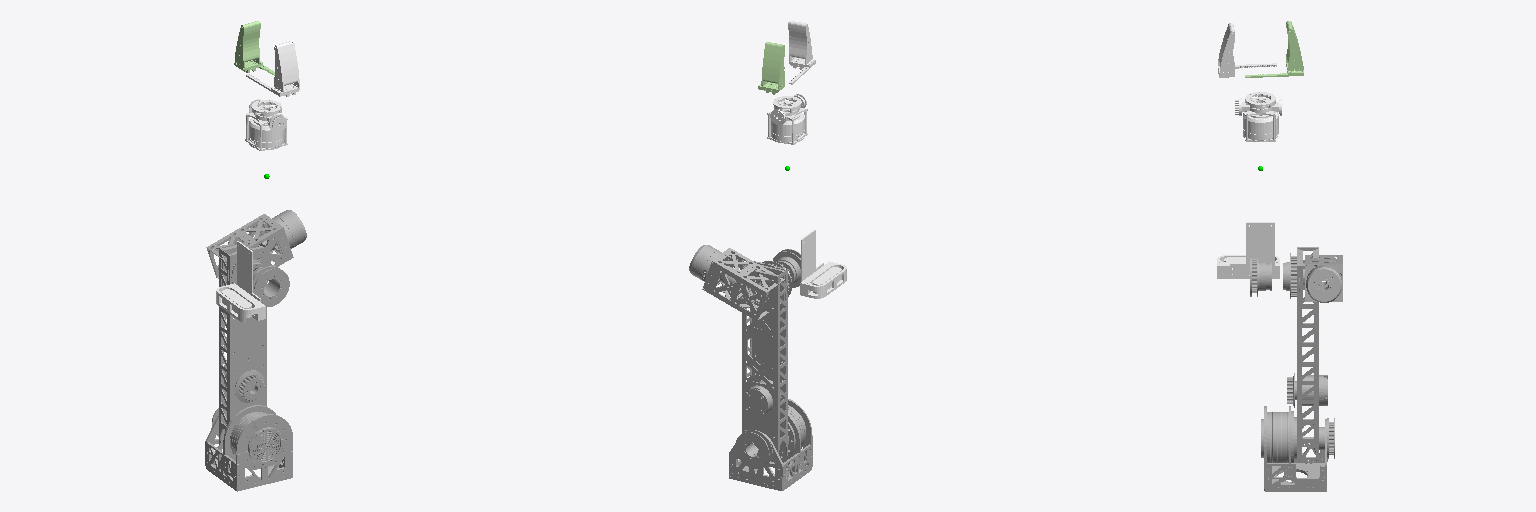
robot.urdf — engineer_v7:
<?xml version="1.0" encoding="utf-8"?>
<!-- This URDF was automatically created by SolidWorks to URDF Exporter! Originally created by Stephen Brawner (brawner@gmail.com) 
     Commit Version: 1.6.0-4-g7f85cfe  Build Version: 1.6.7995.38578
     For more information, please see http://wiki.ros.org/sw_urdf_exporter -->
<robot
  name="engineer_v7">
  <link
    name="base_link">
    <visual>
      <origin
        xyz="0 0 0"
        rpy="0 0 0" />
      <geometry>
        <mesh
          filename="package://engineer_description/meshes/base_link.STL" />
      </geometry>
      <material
        name="">
        <color
          rgba="0.75294 0.75294 0.75294 1" />
      </material>
    </visual>
    <collision>
      <origin
        xyz="0 0 0"
        rpy="0 0 0" />
      <geometry>
        <mesh
          filename="package://engineer_description/meshes/base_link.STL" />
      </geometry>
    </collision>
  </link>
  <link
    name="link1">
    <inertial>
      <origin
        xyz="-0.00021481 0.0018535 0.057337"
        rpy="0 0 0" />
      <mass
        value="2.1" />
      <inertia
        ixx="0.0011115"
        ixy="4.3686E-07"
        ixz="-1.0782E-05"
        iyy="0.0016989"
        iyz="8.4001E-06"
        izz="0.0012571" />
    </inertial>
    <visual>
      <origin
        xyz="0 0 0"
        rpy="0 0 0" />
      <geometry>
        <mesh
          filename="package://engineer_description/meshes/link1.STL" />
      </geometry>
      <material
        name="">
        <color
          rgba="0.75294 0.75294 0.75294 1" />
      </material>
    </visual>
    <collision>
      <origin
        xyz="0 0 0"
        rpy="0 0 0" />
      <geometry>
        <mesh
          filename="package://engineer_description/meshes/link1.STL" />
      </geometry>
    </collision>
  </link>
  <joint
    name="joint1"
    type="revolute">
    <origin
      xyz="0.14614 -0.00014615 0.1938"
      rpy="0 0 0" />
    <parent
      link="base_link" />
    <child
      link="link1" />
    <axis
      xyz="0 0 1" />
    <limit
      lower="-3.14"
      upper="3.14"
      effort="0"
      velocity="0" />
  </joint>
  <link
    name="link2">
    <inertial>
      <origin
        xyz="-1.345E-05 0.1949 -0.025277"
        rpy="0 0 0" />
      <mass
        value="1.3" />
      <inertia
        ixx="0.0054198"
        ixy="1.8584E-08"
        ixz="-1.6807E-08"
        iyy="0.00059311"
        iyz="1.6851E-05"
        izz="0.0058167" />
    </inertial>
    <visual>
      <origin
        xyz="0 0 0"
        rpy="0 0 0" />
      <geometry>
        <mesh
          filename="package://engineer_description/meshes/link2.STL" />
      </geometry>
      <material
        name="">
        <color
          rgba="0.75294 0.75294 0.75294 1" />
      </material>
    </visual>
    <collision>
      <origin
        xyz="0 0 0"
        rpy="0 0 0" />
      <geometry>
        <mesh
          filename="package://engineer_description/meshes/link2.STL" />
      </geometry>
    </collision>
  </link>
  <joint
    name="joint2"
    type="revolute">
    <origin
      xyz="0 0 0.075"
      rpy="1.5708 0 0" />
    <parent
      link="link1" />
    <child
      link="link2" />
    <axis
      xyz="0 0 -1" />
    <limit
      lower="-1.3358"
      upper="2.0644"
      effort="0"
      velocity="0" />
  </joint>
  <link
    name="link3">
    <inertial>
      <origin
        xyz="-0.050612 1.2904E-05 -0.062034"
        rpy="0 0 0" />
      <mass
        value="0.9" />
      <inertia
        ixx="0.00048526"
        ixy="-4.3035E-08"
        ixz="5.6867E-06"
        iyy="0.00055415"
        iyz="5.0253E-08"
        izz="0.00058003" />
    </inertial>
    <visual>
      <origin
        xyz="0 0 0"
        rpy="0 0 0" />
      <geometry>
        <mesh
          filename="package://engineer_description/meshes/link3.STL" />
      </geometry>
      <material
        name="">
        <color
          rgba="0.75294 0.75294 0.75294 1" />
      </material>
    </visual>
    <collision>
      <origin
        xyz="0 0 0"
        rpy="0 0 0" />
      <geometry>
        <mesh
          filename="package://engineer_description/meshes/link3.STL" />
      </geometry>
    </collision>
  </link>
  <joint
    name="joint3"
    type="revolute">
    <origin
      xyz="0 0.33 0"
      rpy="3.1416 0 -1.5708" />
    <parent
      link="link2" />
    <child
      link="link3" />
    <axis
      xyz="0 0 -1" />
    <limit
      lower="-2.8277"
      upper="2.8277"
      effort="0"
      velocity="0" />
  </joint>
  <link
    name="link4">
    <inertial>
      <origin
        xyz="-0.00027014 -0.0043901 0.20898"
        rpy="0 0 0" />
      <mass
        value="0.7" />
      <inertia
        ixx="0.00076152"
        ixy="4.9474E-08"
        ixz="1.3776E-06"
        iyy="0.000784"
        iyz="5.4255E-10"
        izz="0.00017336" />
    </inertial>
    <visual>
      <origin
        xyz="0 0 0"
        rpy="0 0 0" />
      <geometry>
        <mesh
          filename="package://engineer_description/meshes/link4.STL" />
      </geometry>
      <material
        name="">
        <color
          rgba="1 1 1 1" />
      </material>
    </visual>
    <collision>
      <origin
        xyz="0 0 0"
        rpy="0 0 0" />
      <geometry>
        <mesh
          filename="package://engineer_description/meshes/link4.STL" />
      </geometry>
    </collision>
  </link>
  <joint
    name="joint4"
    type="revolute">
    <origin
      xyz="0 0 -0.0582"
      rpy="1.5708 0 -1.5708" />
    <parent
      link="link3" />
    <child
      link="link4" />
    <axis
      xyz="0 0 1" />
    <limit
      lower="-3.14"
      upper="3.14"
      effort="0"
      velocity="0" />
  </joint>
  <link
    name="link5">
    <inertial>
      <origin
        xyz="-0.00016564 -0.02146 0.00040222"
        rpy="0 0 0" />
      <mass
        value="0.7" />
      <inertia
        ixx="0.00013162"
        ixy="1.3297E-06"
        ixz="-3.4582E-09"
        iyy="0.00020968"
        iyz="1.2332E-08"
        izz="0.00012381" />
    </inertial>
    <visual>
      <origin
        xyz="0 0 0"
        rpy="0 0 0" />
      <geometry>
        <mesh
          filename="package://engineer_description/meshes/link5.STL" />
      </geometry>
      <material
        name="">
        <color
          rgba="1 1 1 1" />
      </material>
    </visual>
    <collision>
      <origin
        xyz="0 0 0"
        rpy="0 0 0" />
      <geometry>
        <mesh
          filename="package://engineer_description/meshes/link5.STL" />
      </geometry>
    </collision>
  </link>
  <joint
    name="joint5"
    type="revolute">
    <origin
      xyz="0 0 0.344"
      rpy="1.5708 0 0" />
    <parent
      link="link4" />
    <child
      link="link5" />
    <axis
      xyz="0 0 1" />
    <limit
      lower="-1.7869"
      upper="1.7869"
      effort="0"
      velocity="0" />
  </joint>
  <link
    name="link6">
    <inertial>
      <origin
        xyz="0.0005761 3.0334E-05 -0.053665"
        rpy="0 0 0" />
      <mass
        value="0.55" />
      <inertia
        ixx="0.0002377"
        ixy="-1.4744E-05"
        ixz="-4.3202E-07"
        iyy="7.506E-05"
        iyz="-2.0014E-07"
        izz="0.00027768" />
    </inertial>
    <visual>
      <origin
        xyz="0 0 0"
        rpy="0 0 0" />
      <geometry>
        <mesh
          filename="package://engineer_description/meshes/link6.STL" />
      </geometry>
      <material
        name="">
        <color
          rgba="0.8 0.95686 0.72157 1" />
      </material>
    </visual>
    <collision>
      <origin
        xyz="0 0 0"
        rpy="0 0 0" />
      <geometry>
        <mesh
          filename="package://engineer_description/meshes/link6.STL" />
      </geometry>
    </collision>
  </link>
  <joint
    name="joint6"
    type="revolute">
    <origin
      xyz="0 0 0"
      rpy="1.5708 0 0" />
    <parent
      link="link5" />
    <child
      link="link6" />
    <axis
      xyz="0.010695 0 -0.99994" />
    <limit
      lower="-3.14"
      upper="3.14"
      effort="0"
      velocity="0" />
  </joint>
  <link
    name="right_finger_link">
    <inertial>
      <origin
        xyz="0.058917 -0.0014642 0.032751"
        rpy="0 0 0" />
      <mass
        value="0.275" />
      <inertia
        ixx="2.5608E-05"
        ixy="-5.9875E-08"
        ixz="2.5572E-06"
        iyy="2.7398E-05"
        iyz="8.0741E-09"
        izz="9.9196E-06" />
    </inertial>
    <visual>
      <origin
        xyz="0 0 0"
        rpy="0 0 0" />
      <geometry>
        <mesh
          filename="package://engineer_description/meshes/right_finger_link.STL" />
      </geometry>
      <material
        name="">
        <color
          rgba="1 1 1 1" />
      </material>
    </visual>
    <collision>
      <origin
        xyz="0 0 0"
        rpy="0 0 0" />
      <geometry>
        <mesh
          filename="package://engineer_description/meshes/right_finger_link.STL" />
      </geometry>
    </collision>
  </link>
  <joint
    name="right_finger_joint"
    type="prismatic">
    <origin
      xyz="0.0008128 0 -0.075996"
      rpy="3.1309 -0.00095972 1.4809" />
    <parent
      link="link6" />
    <child
      link="right_finger_link" />
    <axis
      xyz="-1 0 0" />
    <limit
      lower="0"
      upper="0.03"
      effort="0"
      velocity="0" />
    <mimic
      joint="left_finger_joint"
      multiplier="-1"
      offset="0" />
  </joint>
  <link
    name="left_finger_link">
    <inertial>
      <origin
        xyz="-0.059543 0.0016825 0.032751"
        rpy="0 0 0" />
      <mass
        value="0.275" />
      <inertia
        ixx="2.5608E-05"
        ixy="-5.9875E-08"
        ixz="-2.5572E-06"
        iyy="2.7398E-05"
        iyz="-7.9977E-09"
        izz="9.9196E-06" />
    </inertial>
    <visual>
      <origin
        xyz="0 0 0"
        rpy="0 0 0" />
      <geometry>
        <mesh
          filename="package://engineer_description/meshes/left_finger_link.STL" />
      </geometry>
      <material
        name="">
        <color
          rgba="0.8 0.95686 0.72157 1" />
      </material>
    </visual>
    <collision>
      <origin
        xyz="0 0 0"
        rpy="0 0 0" />
      <geometry>
        <mesh
          filename="package://engineer_description/meshes/left_finger_link.STL" />
      </geometry>
    </collision>
  </link>
  <joint
    name="left_finger_joint"
    type="prismatic">
    <origin
      xyz="0.0008128 0 -0.075996"
      rpy="3.1309 -0.00095972 1.4809" />
    <parent
      link="link6" />
    <child
      link="left_finger_link" />
    <axis
      xyz="1 0 0" />
    <limit
      lower="0"
      upper="0.03"
      effort="0"
      velocity="0" />
  </joint>
  <link
    name="camera_link">
    <inertial>
      <origin
        xyz="0.0046932 0.0038938 0.0012613"
        rpy="0 0 0" />
      <mass
        value="0.4" />
      <inertia
        ixx="0.00012686"
        ixy="-3.3584E-06"
        ixz="1.0872E-06"
        iyy="4.4923E-05"
        iyz="-9.6453E-07"
        izz="0.00014272" />
    </inertial>
    <visual>
      <origin
        xyz="0 0 0"
        rpy="0 0 0" />
      <geometry>
        <mesh
          filename="package://engineer_description/meshes/camera_link.STL" />
      </geometry>
      <material
        name="">
        <color
          rgba="1 1 1 1" />
      </material>
    </visual>
    <collision>
      <origin
        xyz="0 0 0"
        rpy="0 0 0" />
      <geometry>
        <mesh
          filename="package://engineer_description/meshes/camera_link.STL" />
      </geometry>
    </collision>
  </link>
  <joint
    name="cemera_joint"
    type="fixed">
    <origin
      xyz="0.012 0.065 -0.0807"
      rpy="1.5708 0 -3.1416" />
    <parent
      link="link3" />
    <child
      link="camera_link" />
  </joint>
  <link name="tcp_link">
    <visual>
      <origin xyz="0 0 0" rpy="0 0 0" />
      <geometry>
        <!-- 半径设为 1cm，方便观察 -->
        <sphere radius="0.005" />
      </geometry>
      <material name="green_transparent">
        <color rgba="0 1 0 0.5" />
      </material>
    </visual>
  </link>
  <joint name="tcp_joint" type="fixed">
    <origin xyz="0 0 0.125" rpy="0 0 0" />
    <parent link="link6" />
    <child link="tcp_link" />
  </joint>
</robot>

--- What the picture shows (computed from the rendered views, not written in the file) ---
3 views of the same robot in one strip: view 1: azimuth 30°, elevation 25°; view 2: azimuth 150°, elevation 25°; view 3: azimuth 270°, elevation 25° (orthographic).
Model engineer_v7 with 11 links and 10 joints (6 revolute, 2 prismatic, 2 fixed), rooted at base_link, posed every joint at zero.
Visible links, largest first — view 1: link1, link2, link3, camera_link, link5, right_finger_link, left_finger_link; view 2: link2, link1, link3, camera_link, link5, right_finger_link, left_finger_link; view 3: link1, link2, link3, camera_link, link5, right_finger_link, left_finger_link.
Boxes of the visible links, bbox=[...] form: link1: bbox=[205, 405, 292, 491]; link2: bbox=[219, 240, 266, 444]; link3: bbox=[206, 210, 306, 306]; camera_link: bbox=[216, 241, 265, 322]; link5: bbox=[245, 99, 287, 150]; right_finger_link: bbox=[246, 41, 299, 96]; left_finger_link: bbox=[234, 21, 274, 75]; link2: bbox=[742, 261, 787, 461]; link1: bbox=[729, 399, 812, 490]; link3: bbox=[689, 245, 800, 320]; camera_link: bbox=[800, 230, 846, 298]; link5: bbox=[767, 94, 807, 144]; right_finger_link: bbox=[788, 21, 815, 84]; left_finger_link: bbox=[758, 42, 784, 94]; link1: bbox=[1261, 406, 1334, 491]; link2: bbox=[1287, 247, 1327, 461]; link3: bbox=[1250, 253, 1342, 302]; camera_link: bbox=[1217, 222, 1279, 278]; link5: bbox=[1235, 92, 1281, 141]; right_finger_link: bbox=[1218, 23, 1276, 77]; left_finger_link: bbox=[1245, 21, 1303, 77].
Bounding box of the posed robot: 0.2375 × 0.2314 × 0.9202 m (x, y, z).
Meshes: 10 distinct files referenced, 7 mesh visuals loaded (7 binary STL); not drawn: 3 (reference not matched to a file when rendering).
